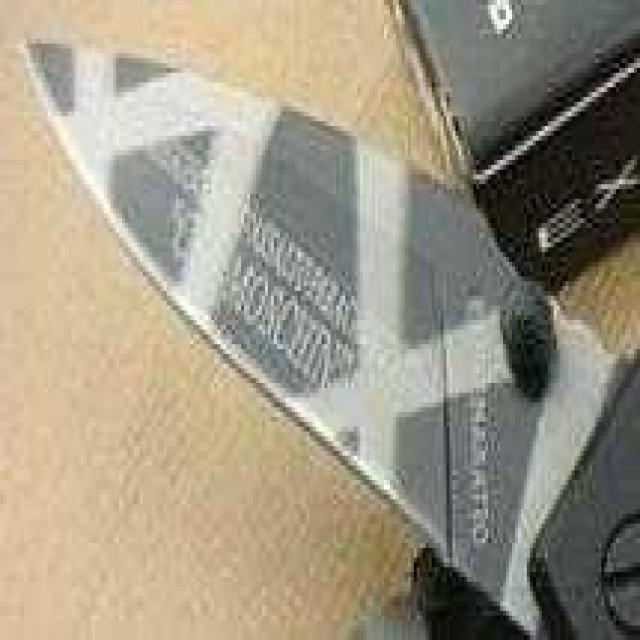Knife: (21, 29, 640, 640)
